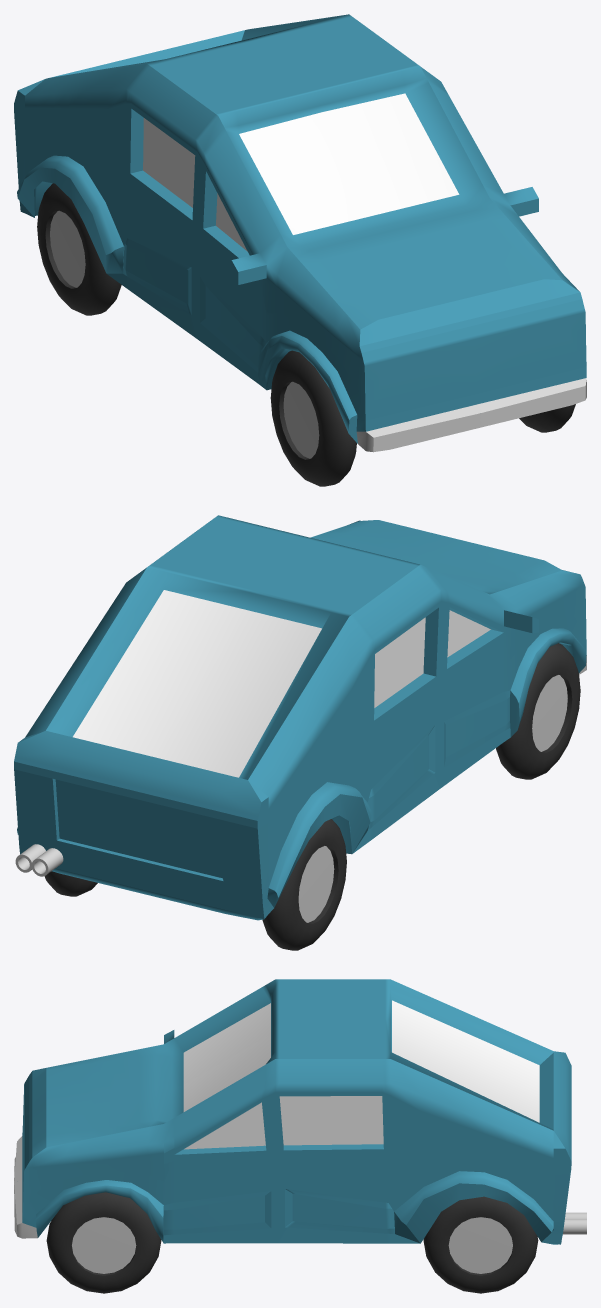
File: car_export.fbx
3 views of the same model, one above another, from view 1: azimuth 30°, elevation 25°; view 2: azimuth 150°, elevation 25°; view 3: azimuth 270°, elevation 25° (orthographic). The views are drawn at different scales.
Visible parts, largest first — view 1: pCube8; view 2: pCube8; view 3: pCube8.
Boxes of the visible parts, x1,y1,x2,y2 form: pCube8: (14, 14, 586, 486); pCube8: (14, 515, 586, 950); pCube8: (14, 979, 586, 1293).
Bounding box in the file's own units: 9.74 × 8.83 × 19.92.
